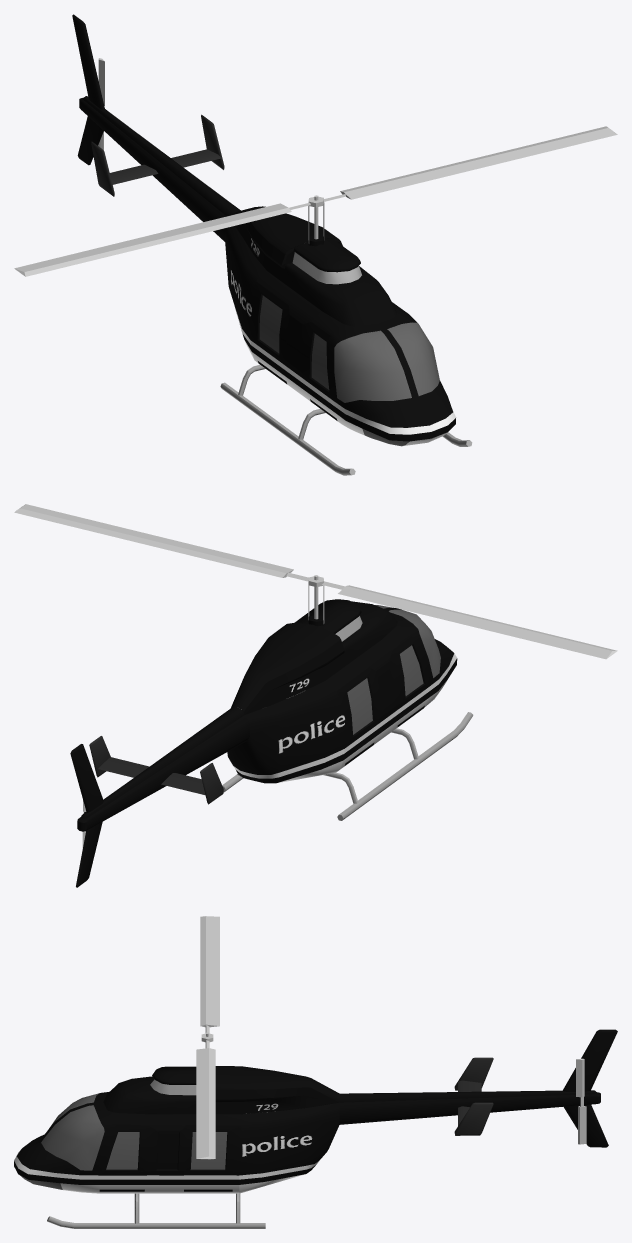
The model's file is police_helicopter.glb.
3 views of the same model, one above another, from view 1: azimuth 30°, elevation 25°; view 2: azimuth 150°, elevation 25°; view 3: azimuth 270°, elevation 25° (orthographic). The views are drawn at different scales.
Visible parts, largest first — view 1: body_body_0, rotor_body_0; view 2: body_body_0, rotor_body_0; view 3: body_body_0, rotor_body_0, tail_body_0.
Boxes of the visible parts, box(x1,y1,x2,y2) form: body_body_0: box(72, 14, 472, 475); rotor_body_0: box(14, 126, 617, 276); body_body_0: box(70, 582, 473, 887); rotor_body_0: box(14, 504, 617, 659); body_body_0: box(14, 1029, 617, 1228); rotor_body_0: box(196, 916, 219, 1159); tail_body_0: box(576, 1058, 586, 1144).
Bounding box in the file's own units: 2.46 × 0.8277 × 2.59.
1 material, 1 textured.
